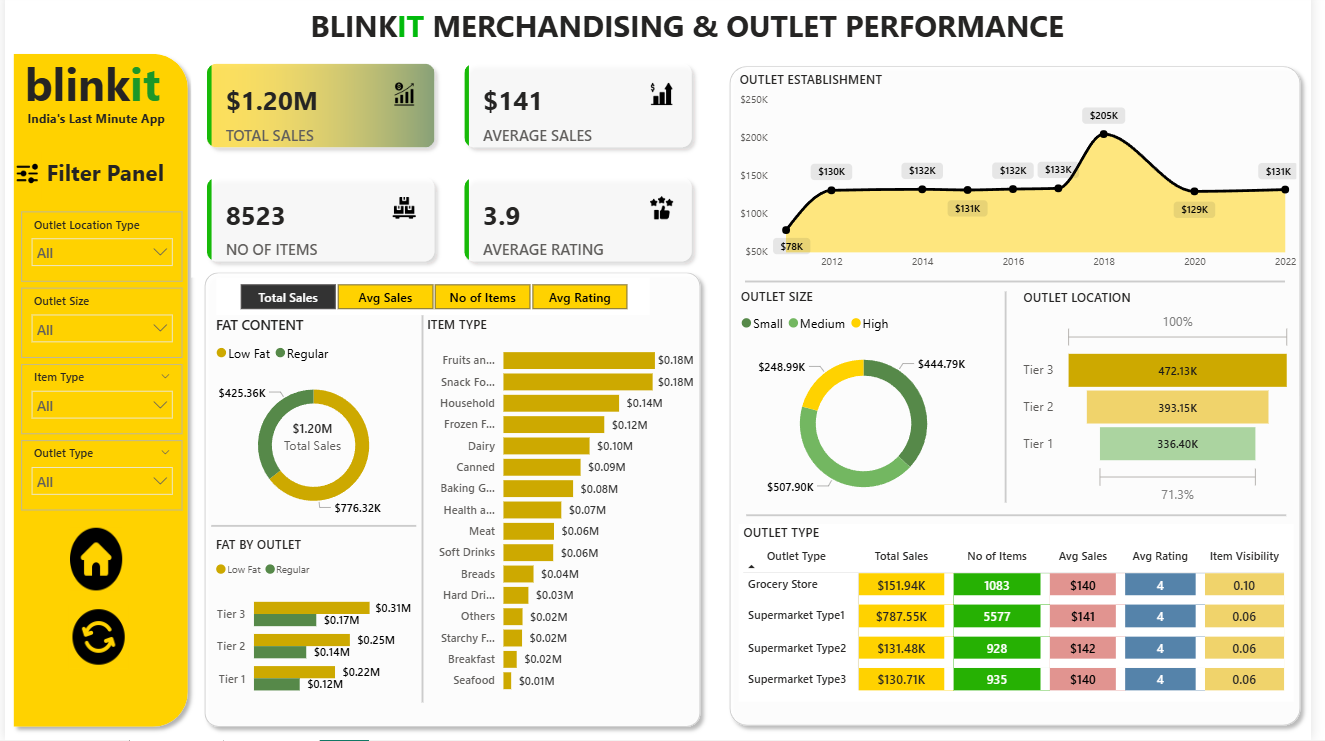

What the dashboard file says about the page in this screenshot:
{"tool":"powerbi","page":{"name":"Overview","canvas":[1400,800],"ordinal":0},"visuals":[{"type":"shape","box":[0,55,205.1,740],"z":0},{"type":"textbox","box":[16.1,57.6,175.6,75.1],"z":1000,"group":"g1"},{"type":"shape","box":[768.1,68.7,630,725.2],"z":1000},{"type":"textbox","box":[226.5,1.3,1020.1,67],"z":2000},{"type":"textbox","box":[14.7,119.3,166.2,30.8],"z":2000,"group":"g1"},{"type":"group","id":"g1","title":"Group 1","box":[6.7,57.6,187.7,666.2],"z":3000},{"type":"cardVisual","fields":{"Data":["BlinkIT Grocery Data.Total Sales","BlinkIT Grocery Data.Avg Sales","BlinkIT Grocery Data.No of Items","BlinkIT Grocery Data.Avg Rating"]},"box":[199.7,57.6,555,246.7],"z":3000,"group":"g2"},{"type":"group","id":"g2","title":"Group 2","box":[199.7,57.6,555,737],"z":4000},{"type":"shape","box":[205.1,289.2,549.6,505.4],"z":4000,"group":"g2"},{"type":"group","id":"g3","title":"Group 3","box":[782.8,82.1,607.2,676.9],"z":5000},{"type":"donutChart","title":"FAT CONTENT","fields":{"Y":["BlinkIT Grocery Data.Total Sales"],"Category":["BlinkIT Grocery Data.Item Fat Content"]},"box":[221.1,344.2,219.8,229.2],"z":5000,"group":"g2"},{"type":"slicer","fields":{"Values":["Metrics.Metrics"]},"box":[226.5,303.9,465.1,40.2],"z":6000,"group":"g2"},{"type":"cardVisual","fields":{"Data":["BlinkIT Grocery Data.Total Sales"]},"box":[273.4,439.3,113.9,68.4],"z":7000,"group":"g2"},{"type":"clusteredBarChart","title":"FAT BY OUTLET","fields":{"Y":["BlinkIT Grocery Data.Total Sales"],"Category":["BlinkIT Grocery Data.Outlet Location Type"],"Series":["BlinkIT Grocery Data.Item Fat Content"]},"box":[221.1,580.1,219.8,186.3],"z":8000,"group":"g2"},{"type":"shape","box":[221.1,555.6,219.8,28.2],"z":9000,"group":"g2"},{"type":"shape","box":[437,343.8,21.4,415.6],"z":10000,"group":"g2"},{"type":"barChart","title":"ITEM TYPE","fields":{"Y":["BlinkIT Grocery Data.Total Sales"],"Category":["BlinkIT Grocery Data.Item Type"]},"box":[447.7,344.2,296.2,415.6],"z":11000,"group":"g2"},{"type":"lineChart","title":"OUTLET ESTABLISHMENT","fields":{"Category":["BlinkIT Grocery Data.Outlet Establishment Year"],"Y":["BlinkIT Grocery Data.Total Sales"]},"box":[782.8,82.1,607.2,222.5],"z":13000,"group":"g3"},{"type":"shape","box":[793.5,295.2,579.1,26.8],"z":14000,"group":"g3"},{"type":"donutChart","title":"OUTLET SIZE","fields":{"Y":["BlinkIT Grocery Data.Total Sales"],"Category":["BlinkIT Grocery Data.Outlet Size"]},"box":[784.1,315.3,273.5,244],"z":15000,"group":"g3"},{"type":"shape","box":[1057.6,319.4,30.8,226.5],"z":16000,"group":"g3"},{"type":"funnel","title":"OUTLET LOCATION","fields":{"Category":["BlinkIT Grocery Data.Outlet Location Type"],"Y":["Sum(BlinkIT Grocery Data.Sales)"]},"box":[1087.1,316.7,297.6,235.9],"z":17000,"group":"g3"},{"type":"shape","box":[794.9,545.9,579.1,26.8],"z":18000,"group":"g3"},{"type":"pivotTable","title":"OUTLET TYPE","fields":{"Rows":["BlinkIT Grocery Data.Outlet Type"],"Values":["BlinkIT Grocery Data.Total Sales","BlinkIT Grocery Data.No of Items","BlinkIT Grocery Data.Avg Sales","BlinkIT Grocery Data.Avg Rating","Avg(BlinkIT Grocery Data.Item Visibility)"]},"box":[786.8,568.7,595.2,190.3],"z":19000,"group":"g3"},{"type":"slicer","fields":{"Values":["BlinkIT Grocery Data.Outlet Location Type"]},"box":[17.4,233.2,172.9,75.1],"z":20000,"group":"g1"},{"type":"slicer","fields":{"Values":["BlinkIT Grocery Data.Outlet Size"]},"box":[17.4,315,172.9,75.1],"z":21000,"group":"g1"},{"type":"slicer","fields":{"Values":["BlinkIT Grocery Data.Item Type"]},"box":[17.4,396.7,172.9,75.1],"z":22000,"group":"g1"},{"type":"textbox","box":[38.9,168.9,155.5,52.3],"z":23000,"group":"g1"},{"type":"actionButton","box":[69.7,572.3,56.3,67],"z":24000,"group":"g1"},{"type":"slicer","fields":{"Values":["BlinkIT Grocery Data.Outlet Type"]},"box":[17.4,478.5,172.9,75.1],"z":25000,"group":"g1"},{"type":"actionButton","box":[68.4,655.5,64.3,68.4],"z":26000,"group":"g1"},{"type":"image","box":[6.7,164.8,34.9,55],"z":27000,"group":"g1"}]}

Visuals, with their boxes in screenshot pixels (x1, y1, x2, y2), scaled from the page's 1400x800 canvas onto the 1325x741 screenshot:
shape: 0 51 194 736
textbox: 15 53 181 123
shape: 727 64 1323 735
textbox: 214 1 1180 63
textbox: 14 111 171 139
"Group 1" group: 6 53 184 670
cardVisual - BlinkIT Grocery Data.Total Sales x BlinkIT Grocery Data.Avg Sales: 189 53 714 282
"Group 2" group: 189 53 714 736
shape: 194 268 714 736
"Group 3" group: 741 76 1316 703
"FAT CONTENT" donutChart: 209 319 417 531
slicer - Metrics.Metrics: 214 281 655 319
cardVisual - BlinkIT Grocery Data.Total Sales: 259 407 367 470
"FAT BY OUTLET" clusteredBarChart: 209 537 417 710
shape: 209 515 417 541
shape: 414 318 434 703
"ITEM TYPE" barChart: 424 319 704 704
"OUTLET ESTABLISHMENT" lineChart: 741 76 1316 282
shape: 751 273 1299 298
"OUTLET SIZE" donutChart: 742 292 1001 518
shape: 1001 296 1030 506
"OUTLET LOCATION" funnel: 1029 293 1311 512
shape: 752 506 1300 530
"OUTLET TYPE" pivotTable: 745 527 1308 703
slicer - BlinkIT Grocery Data.Outlet Location Type: 16 216 180 286
slicer - BlinkIT Grocery Data.Outlet Size: 16 292 180 361
slicer - BlinkIT Grocery Data.Item Type: 16 367 180 437
textbox: 37 156 184 205
actionButton: 66 530 119 592
slicer - BlinkIT Grocery Data.Outlet Type: 16 443 180 513
actionButton: 65 607 126 671
image: 6 153 39 204
